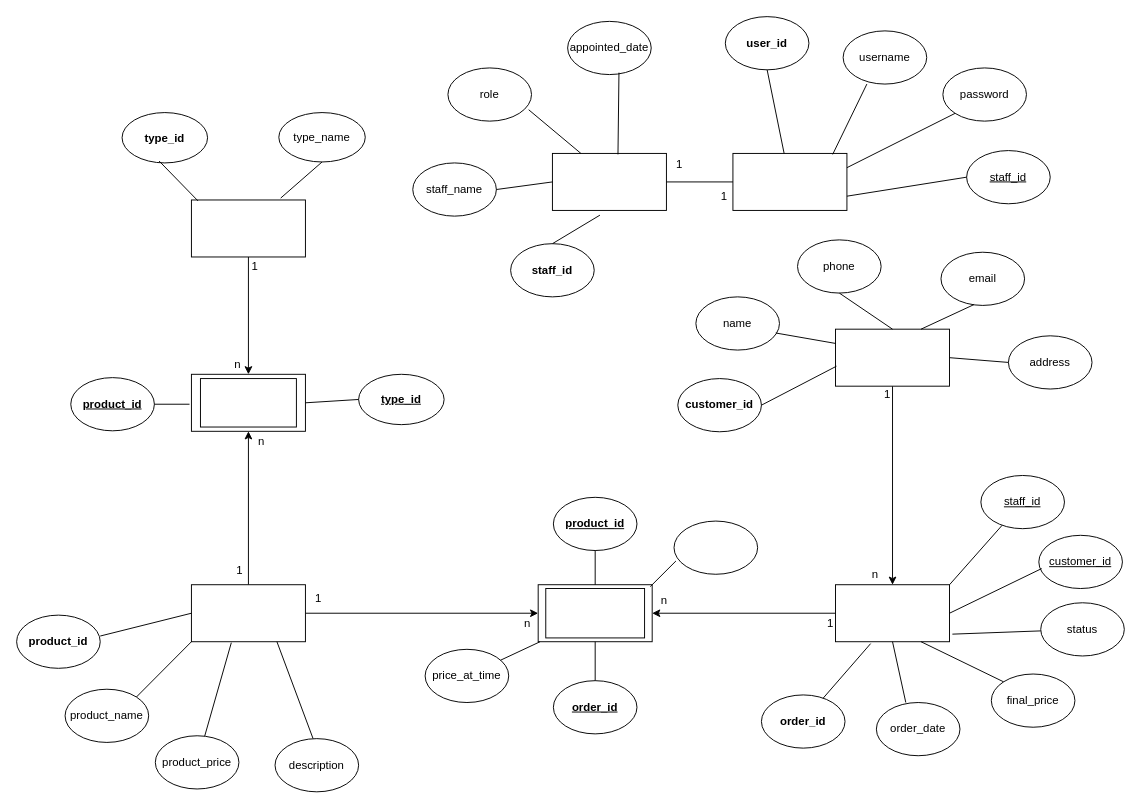
Some shapes in this 1141 by 808 pixel diagram are drawn without their labels. The centre of each missing label's shape, as x and y in pixels:
"amount" goes at pixel 715 547.
"Customer" goes at pixel 892 357.
"Order" goes at pixel 892 613.
"OrderDetail" goes at pixel 595 613.
"Product" goes at pixel 247 613.
"ProductType" goes at pixel 248 402.
"Staff" goes at pixel 608 181.
"Type" goes at pixel 247 228.
"User" goes at pixel 789 181.
